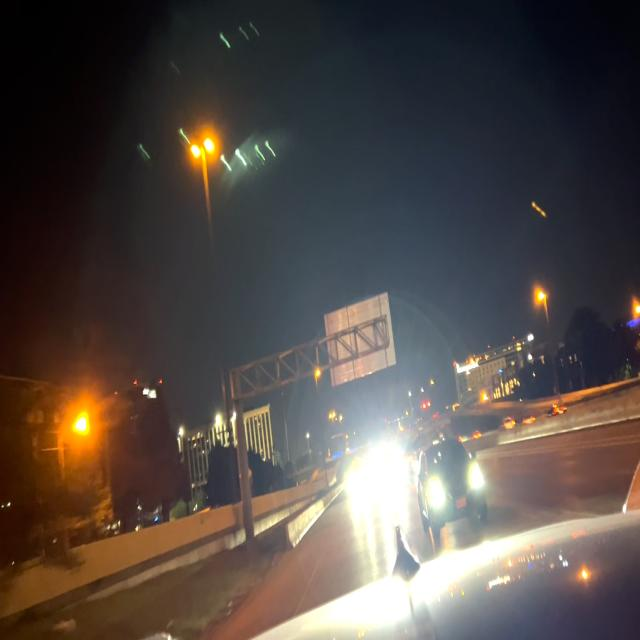back-of-sign: (325, 289, 398, 392)
